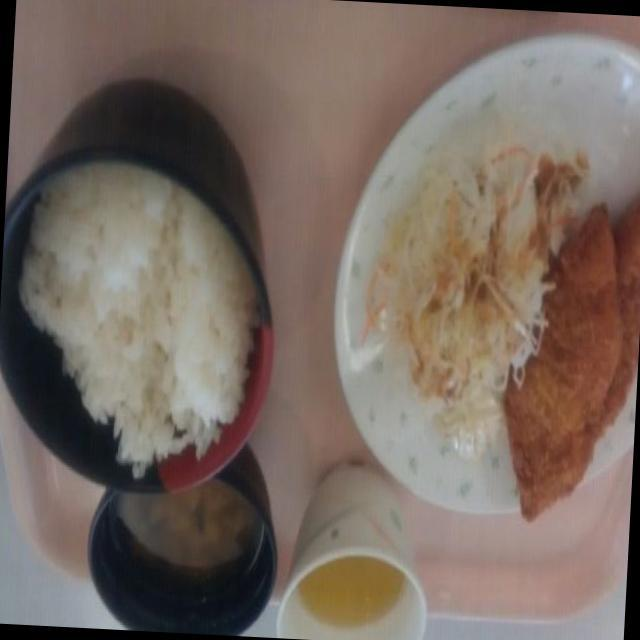Rice: (24, 191, 264, 471)
